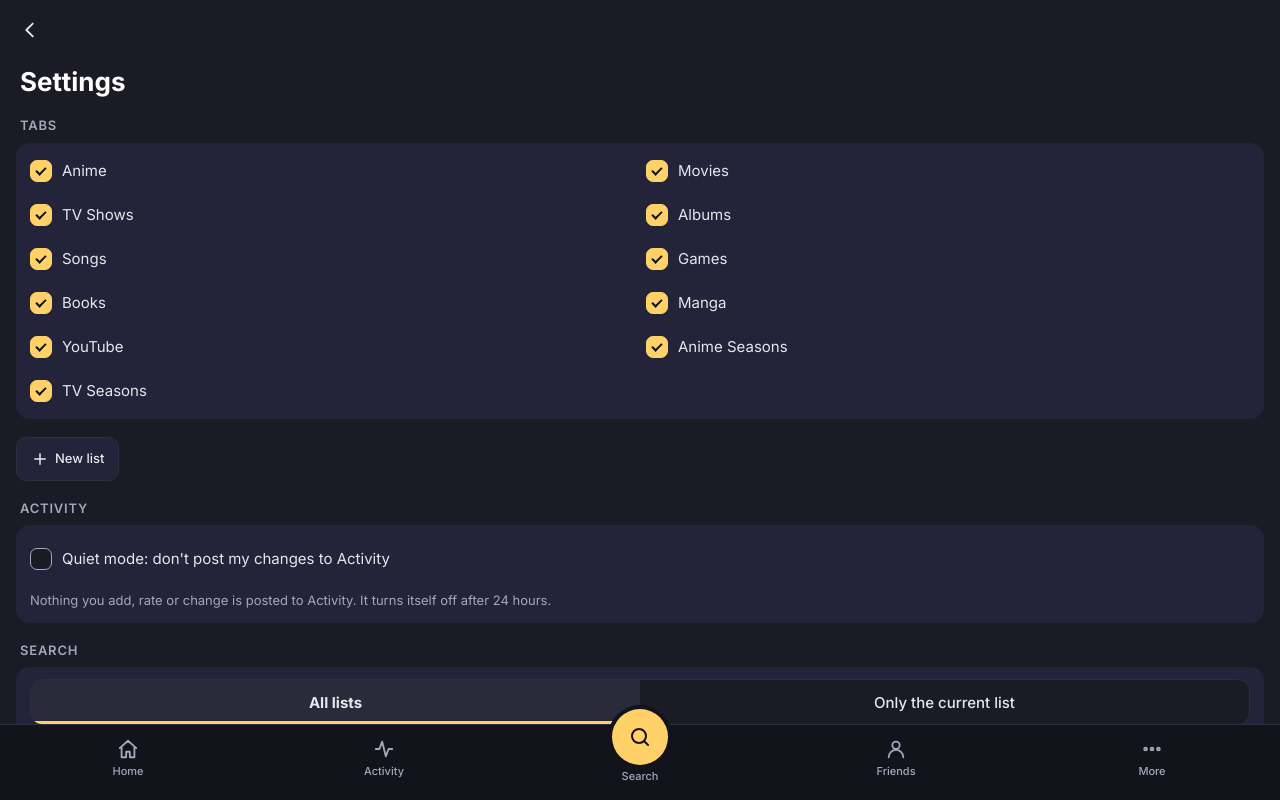
it: Quiet mode switch (Settings) › is off by default; turning it on saves now + 24 h and shows "On until ... tomorrow"
Click the switch labelled "Quiet mode: don't post my changes to Activity" at (41, 559), box [30,548,52,570]
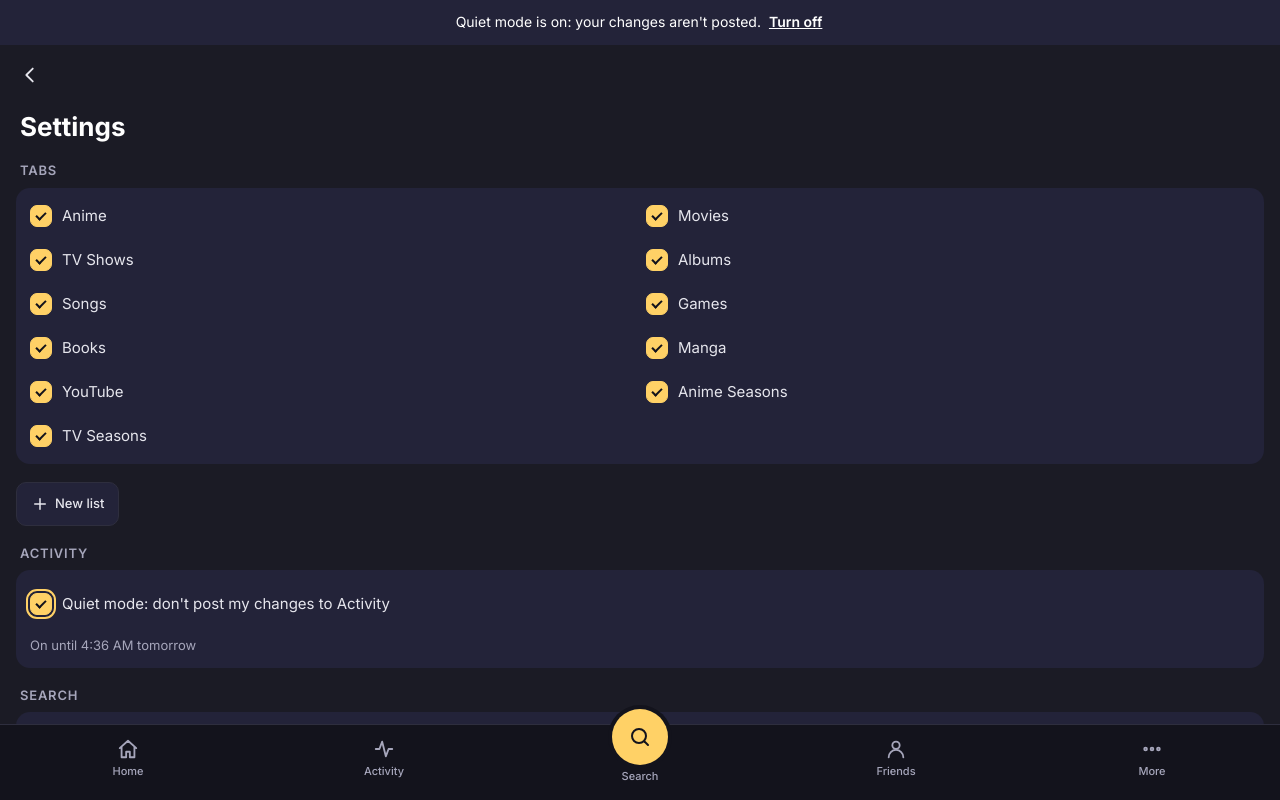
Result: the switch labelled "Quiet mode: don't post my changes to Activity" is checked at [30,593,52,615]
Result: the text "On until 4:36 AM tomorrow" is shown at [30,637,196,653]
